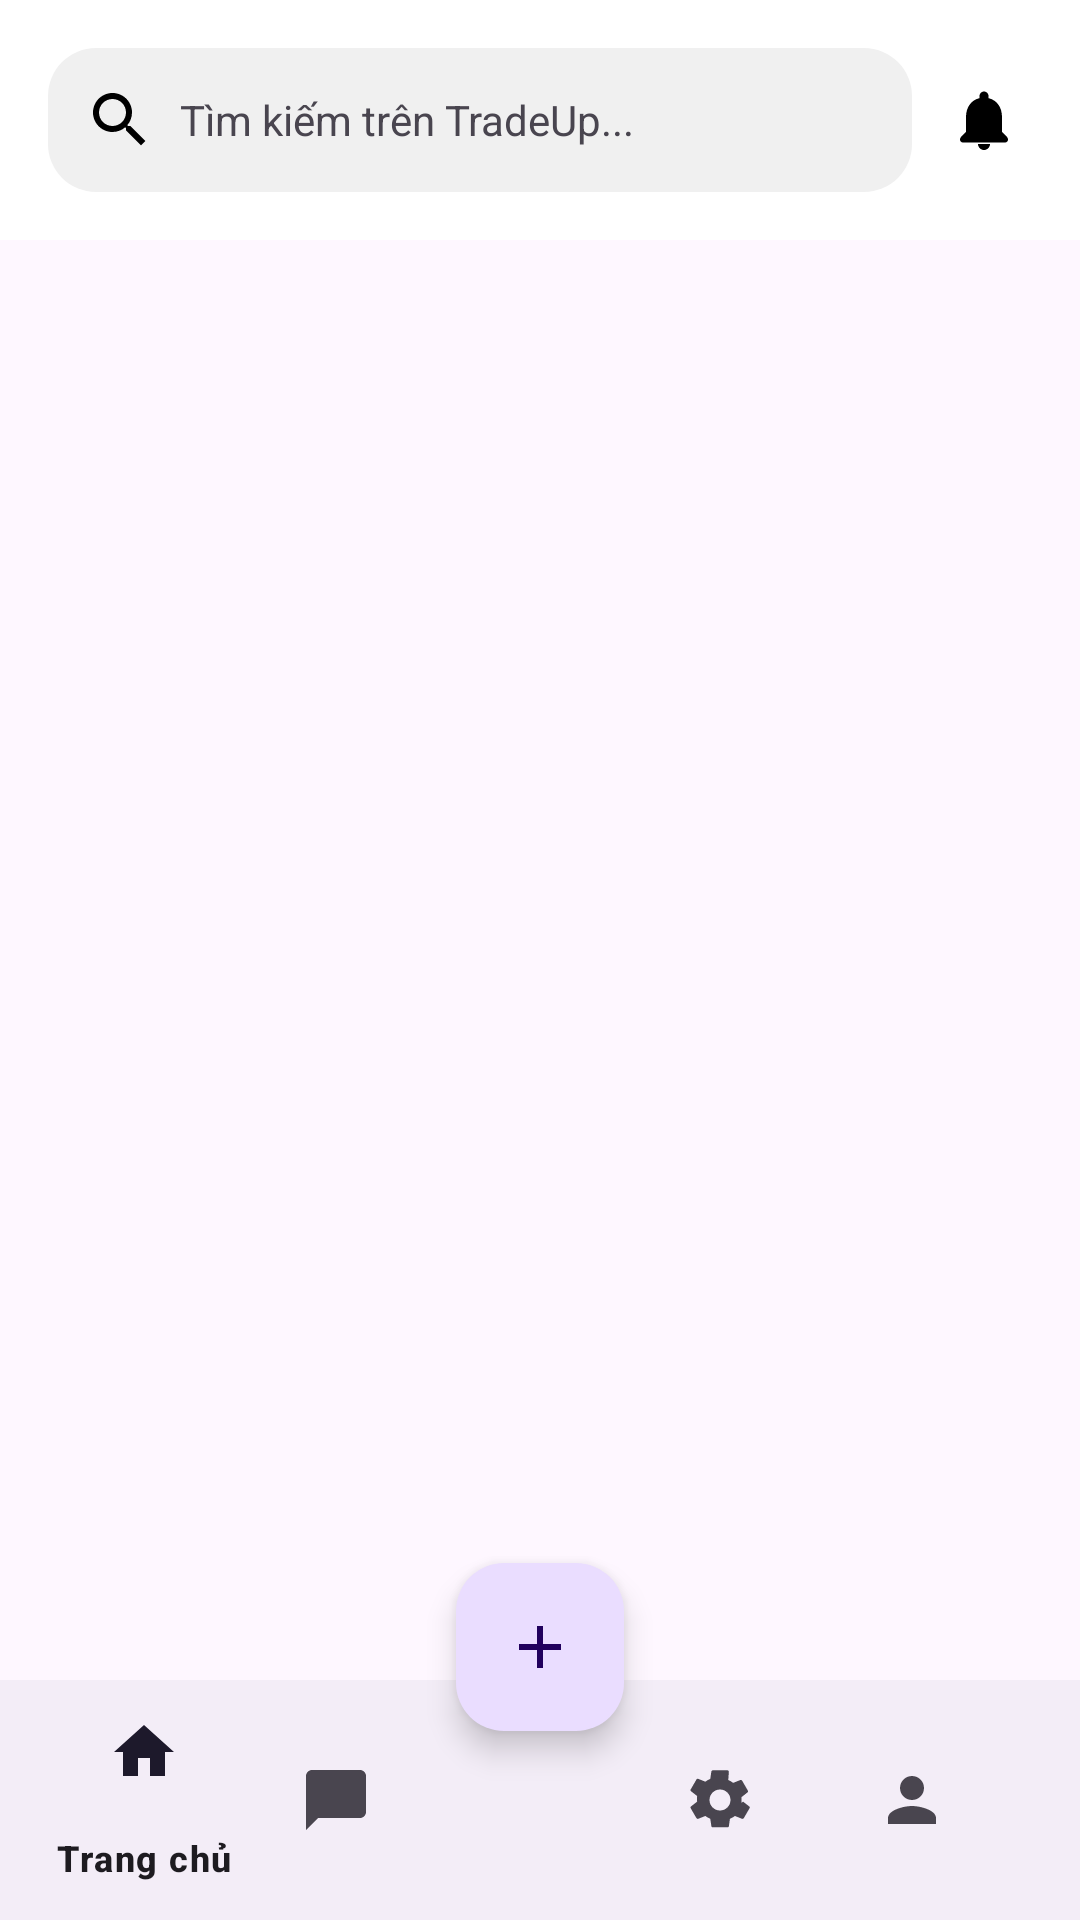

Icons on this 1080w x 1920h Android screen, each with its box as Rect(x1, y1, x2, y2):
add: Rect(456, 1563, 624, 1731)
Thông báo: Rect(960, 91, 1008, 150)
